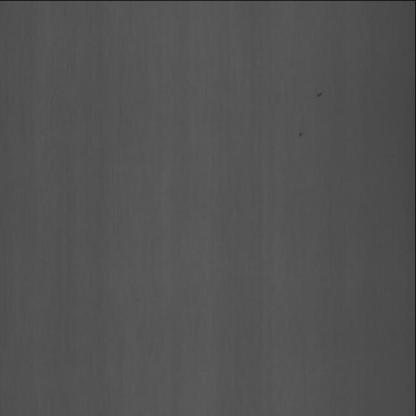inclusion: (295, 119, 314, 145), (314, 78, 327, 109)
